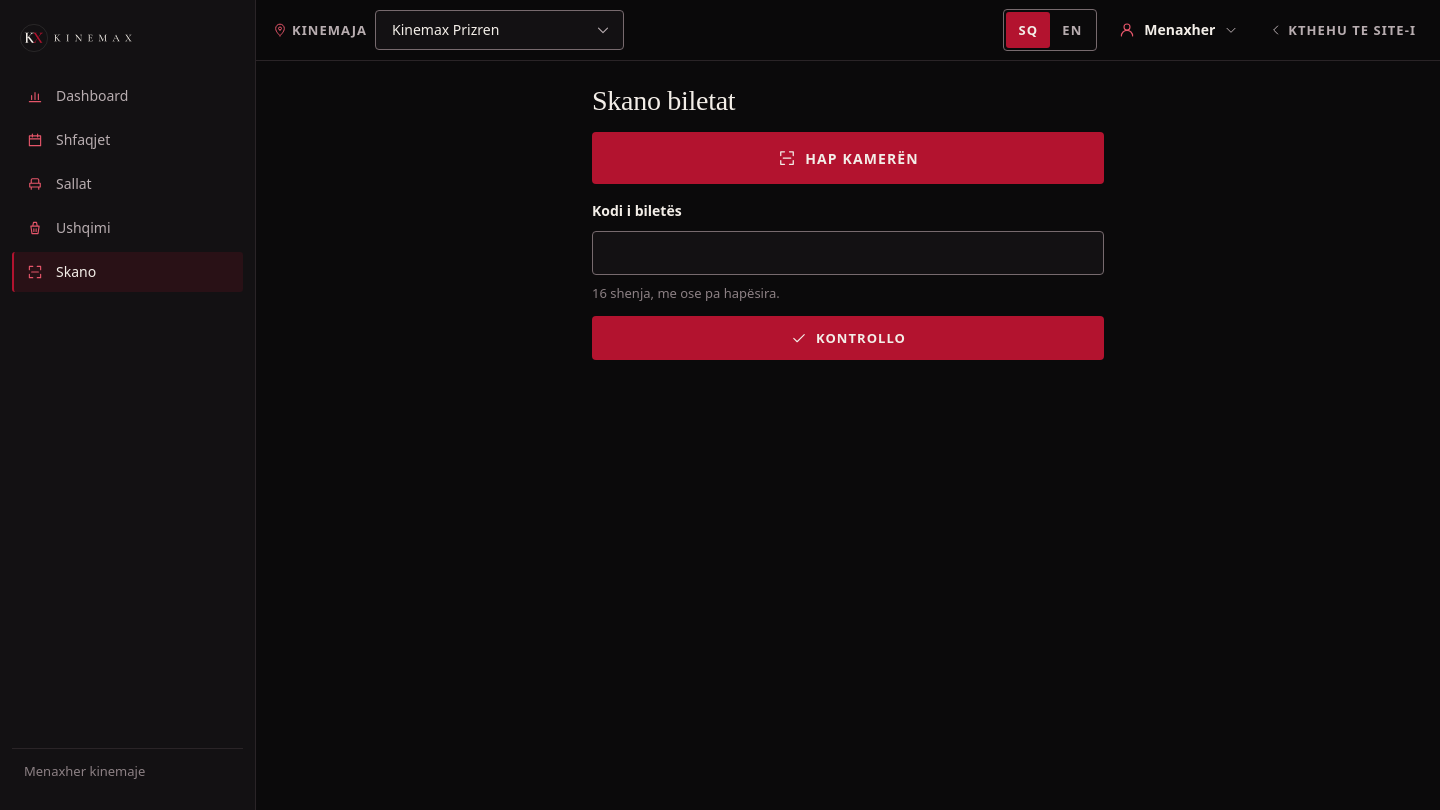
Scenario: the scan page › shows the reason in red when a ticket is refused
In the field labelled "Kodi i biletës": x=848, y=253 [592,231,1104,275], type "ABCD1234EFGH5678"
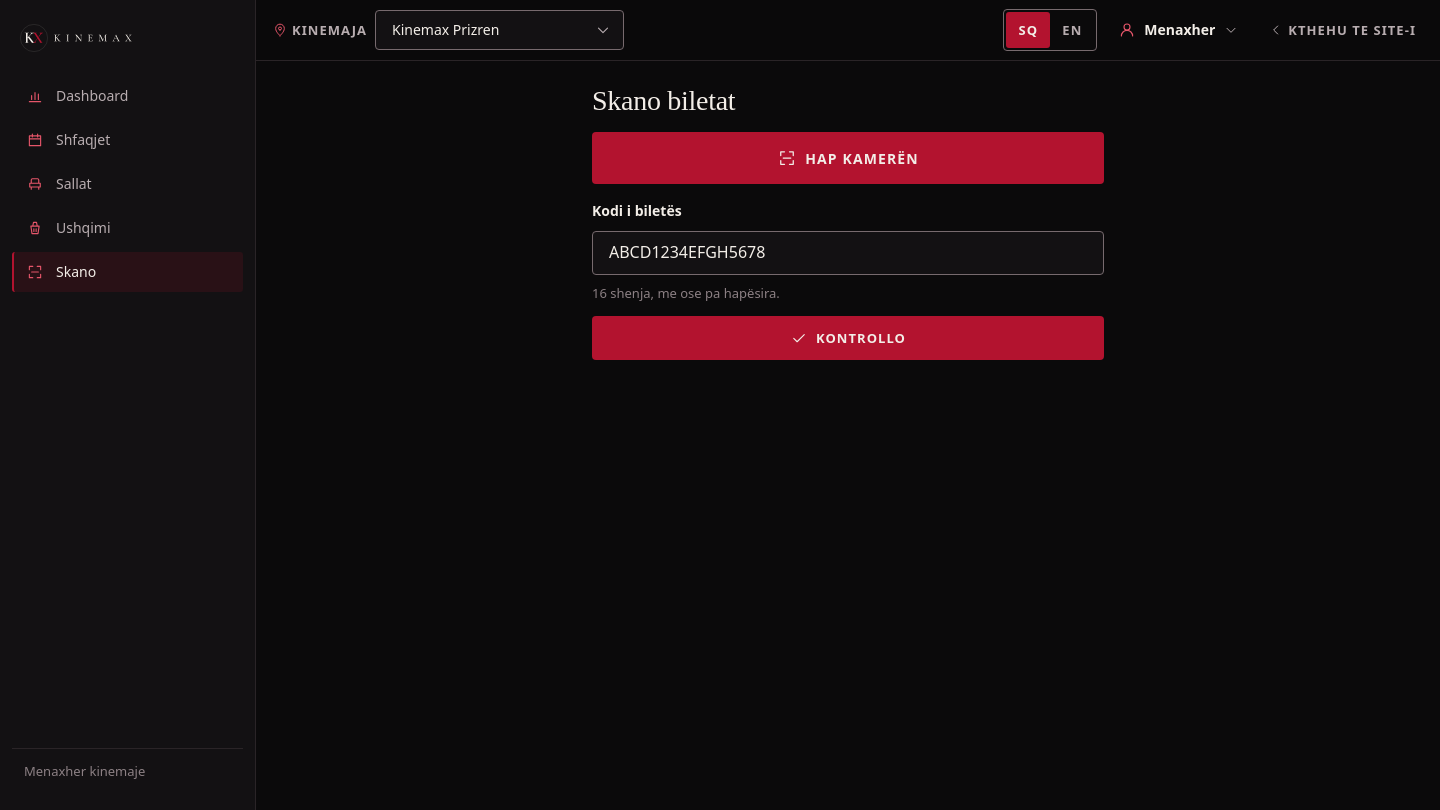
Click the button "Kontrollo": x=848, y=338 [592,316,1104,360]
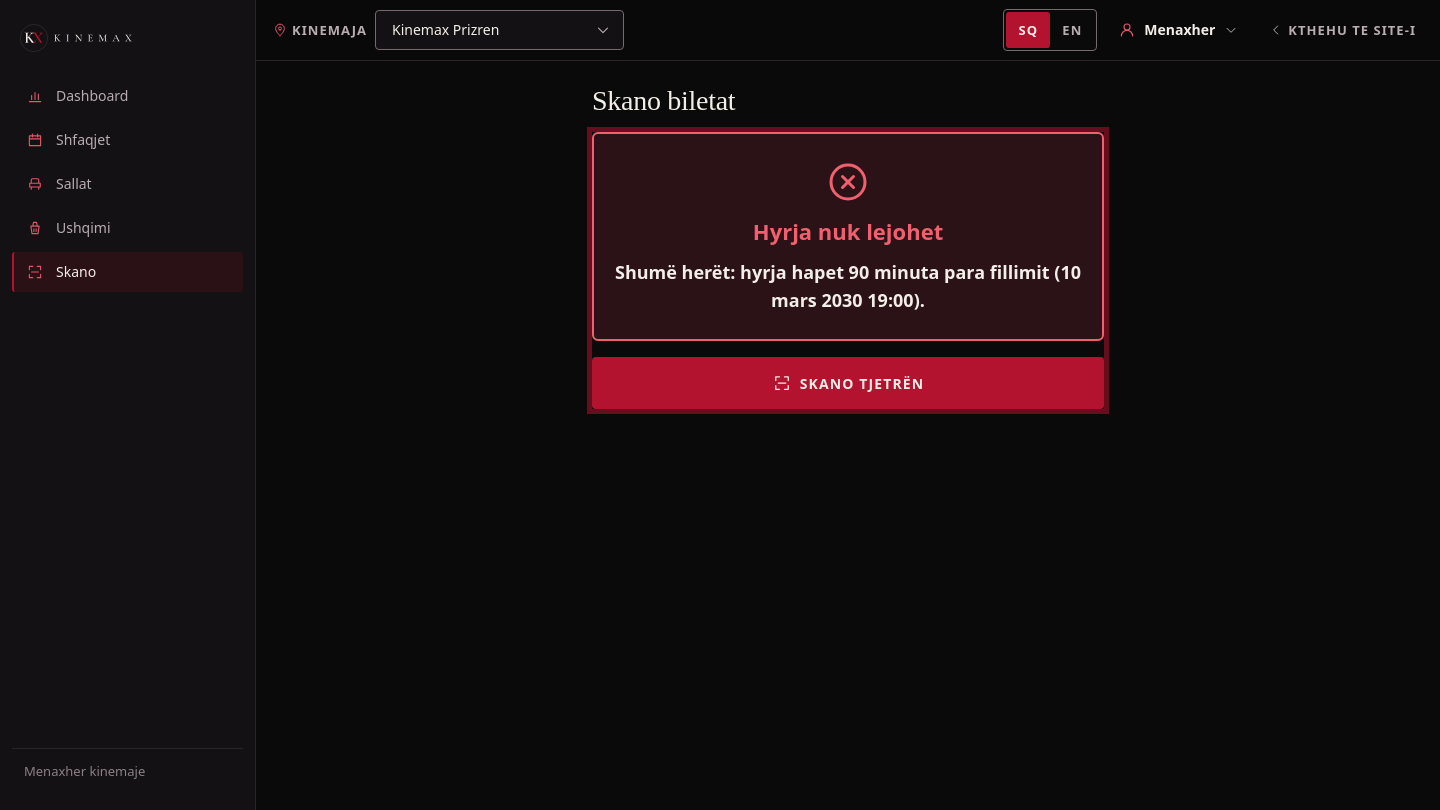
Expected: the message shows "Hyrja nuk lejohet", [753,216,943,246]
